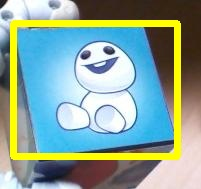Blue1: (13, 23, 177, 156)
